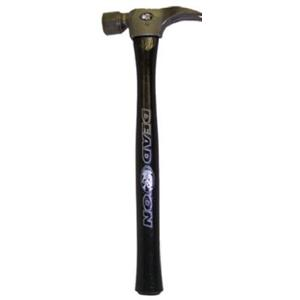hammer: (100, 3, 204, 298)
